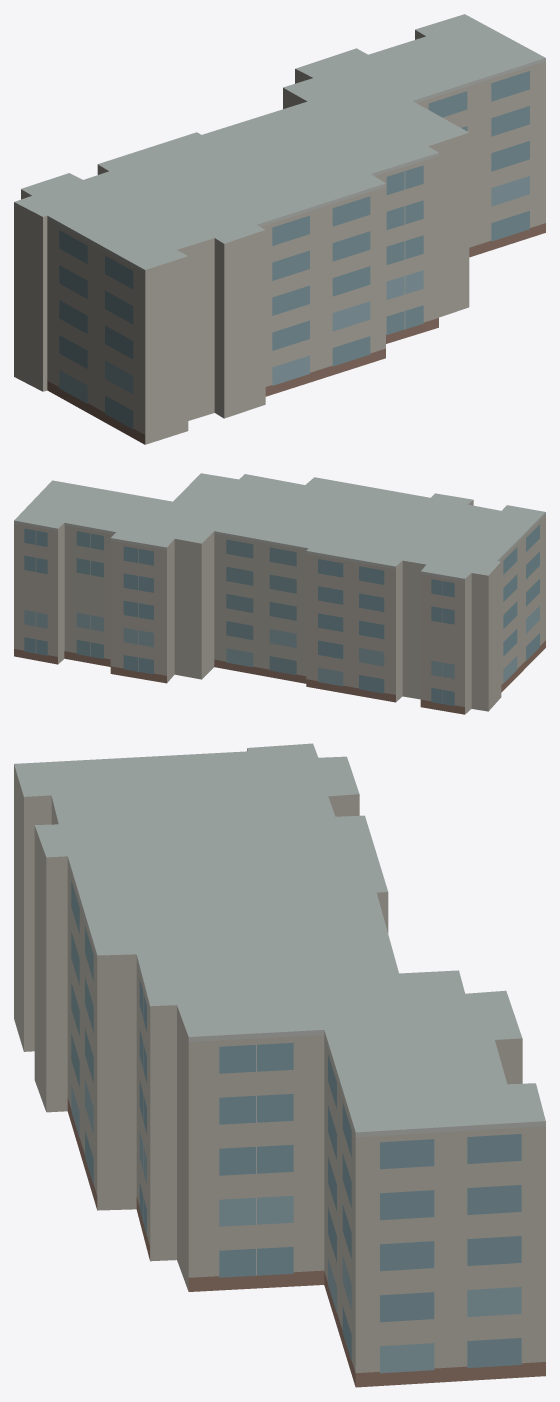
The model's file is survey-upis-32685854.glb.
3 renders of one model, top to bottom at view 1: azimuth 30°, elevation 25°; view 2: azimuth 150°, elevation 25°; view 3: azimuth 270°, elevation 25°, orthographic. The views are drawn at different scales.
Visible parts, largest first — view 1: survey-upis-32685854.tmp; view 2: survey-upis-32685854.tmp; view 3: survey-upis-32685854.tmp.
Boxes of the visible parts, x1,y1,x2,y2 form: survey-upis-32685854.tmp: (14,14,545,444); survey-upis-32685854.tmp: (14,473,545,714); survey-upis-32685854.tmp: (14,743,545,1387).
Bounding box in the file's own units: 41.55 × 12.7 × 24.01.
